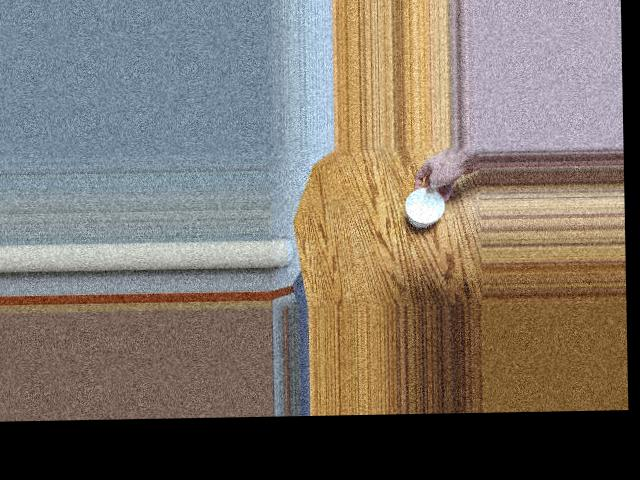cotage: (398, 186, 444, 230)
